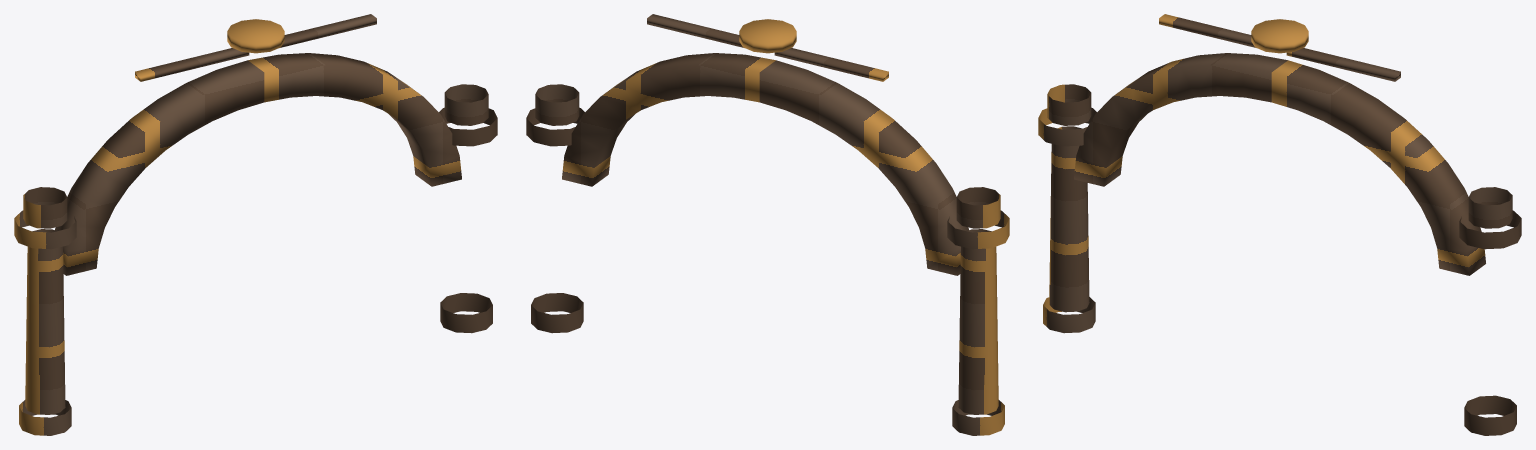
File: SM_Track_FinishGate_A.obj
The picture shows the model from 3 angles, left to right: view 1: azimuth 30°, elevation 25°; view 2: azimuth 150°, elevation 25°; view 3: azimuth 330°, elevation 25°; orthographic projection.
Parts seen in each view (by area): view 1: Arch, Pylon, Trim, Crest, Spirit, Gold; view 2: Arch, Pylon, Trim, Crest, Spirit, Gold; view 3: Arch, Pylon, Trim, Crest, Gold, Spirit.
Boxes of the visible parts, x1,y1,x2,y2 form: Arch: [55, 53, 461, 275]; Pylon: [19, 187, 492, 435]; Trim: [14, 84, 497, 249]; Crest: [227, 19, 284, 53]; Spirit: [135, 48, 249, 81]; Gold: [280, 14, 376, 47]; Arch: [562, 53, 968, 275]; Pylon: [531, 187, 1004, 435]; Trim: [526, 84, 1009, 249]; Crest: [739, 19, 796, 53]; Spirit: [774, 48, 888, 81]; Gold: [647, 14, 743, 47]; Arch: [1074, 53, 1485, 275]; Pylon: [1043, 84, 1516, 435]; Trim: [1038, 107, 1521, 249]; Crest: [1251, 19, 1308, 53]; Gold: [1286, 48, 1400, 81]; Spirit: [1159, 14, 1255, 47].
Size of the model in its own units: 14.9 by 10.25 by 1.62.
1 material, 1 textured.
